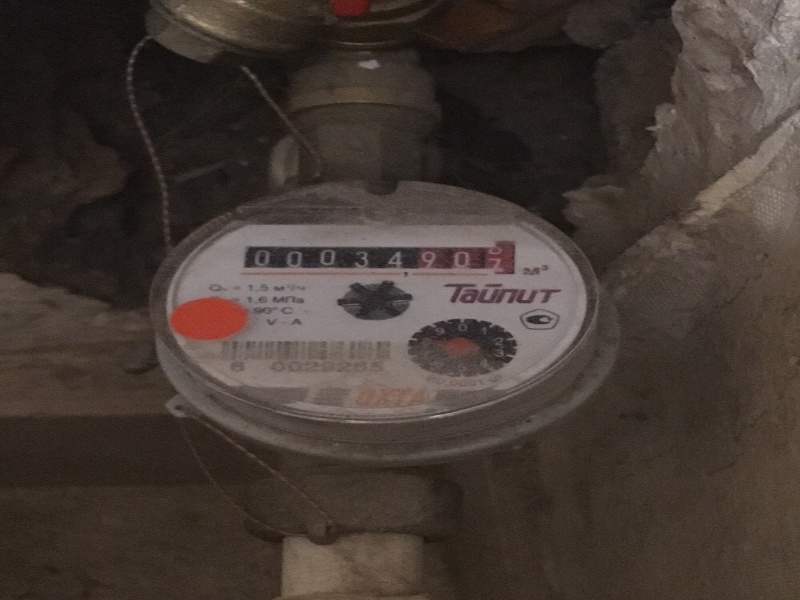dial: (237, 229, 522, 274)
